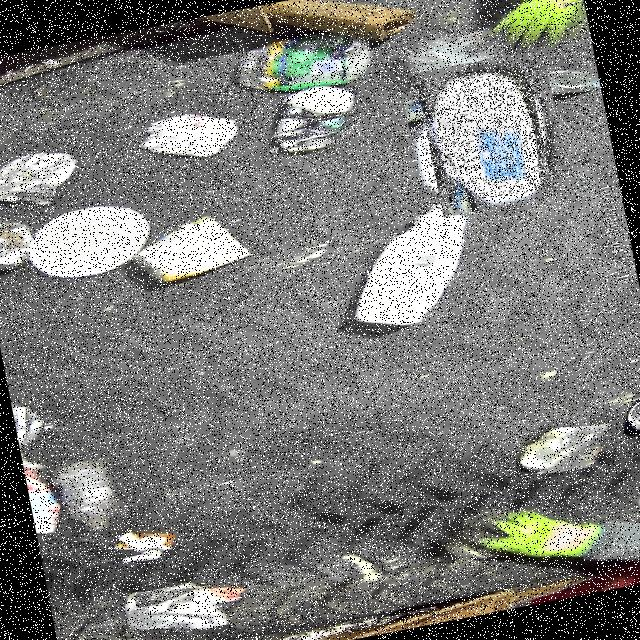milk-jug: (408, 60, 560, 210)
